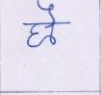ai_matra: (37, 1, 59, 22)
